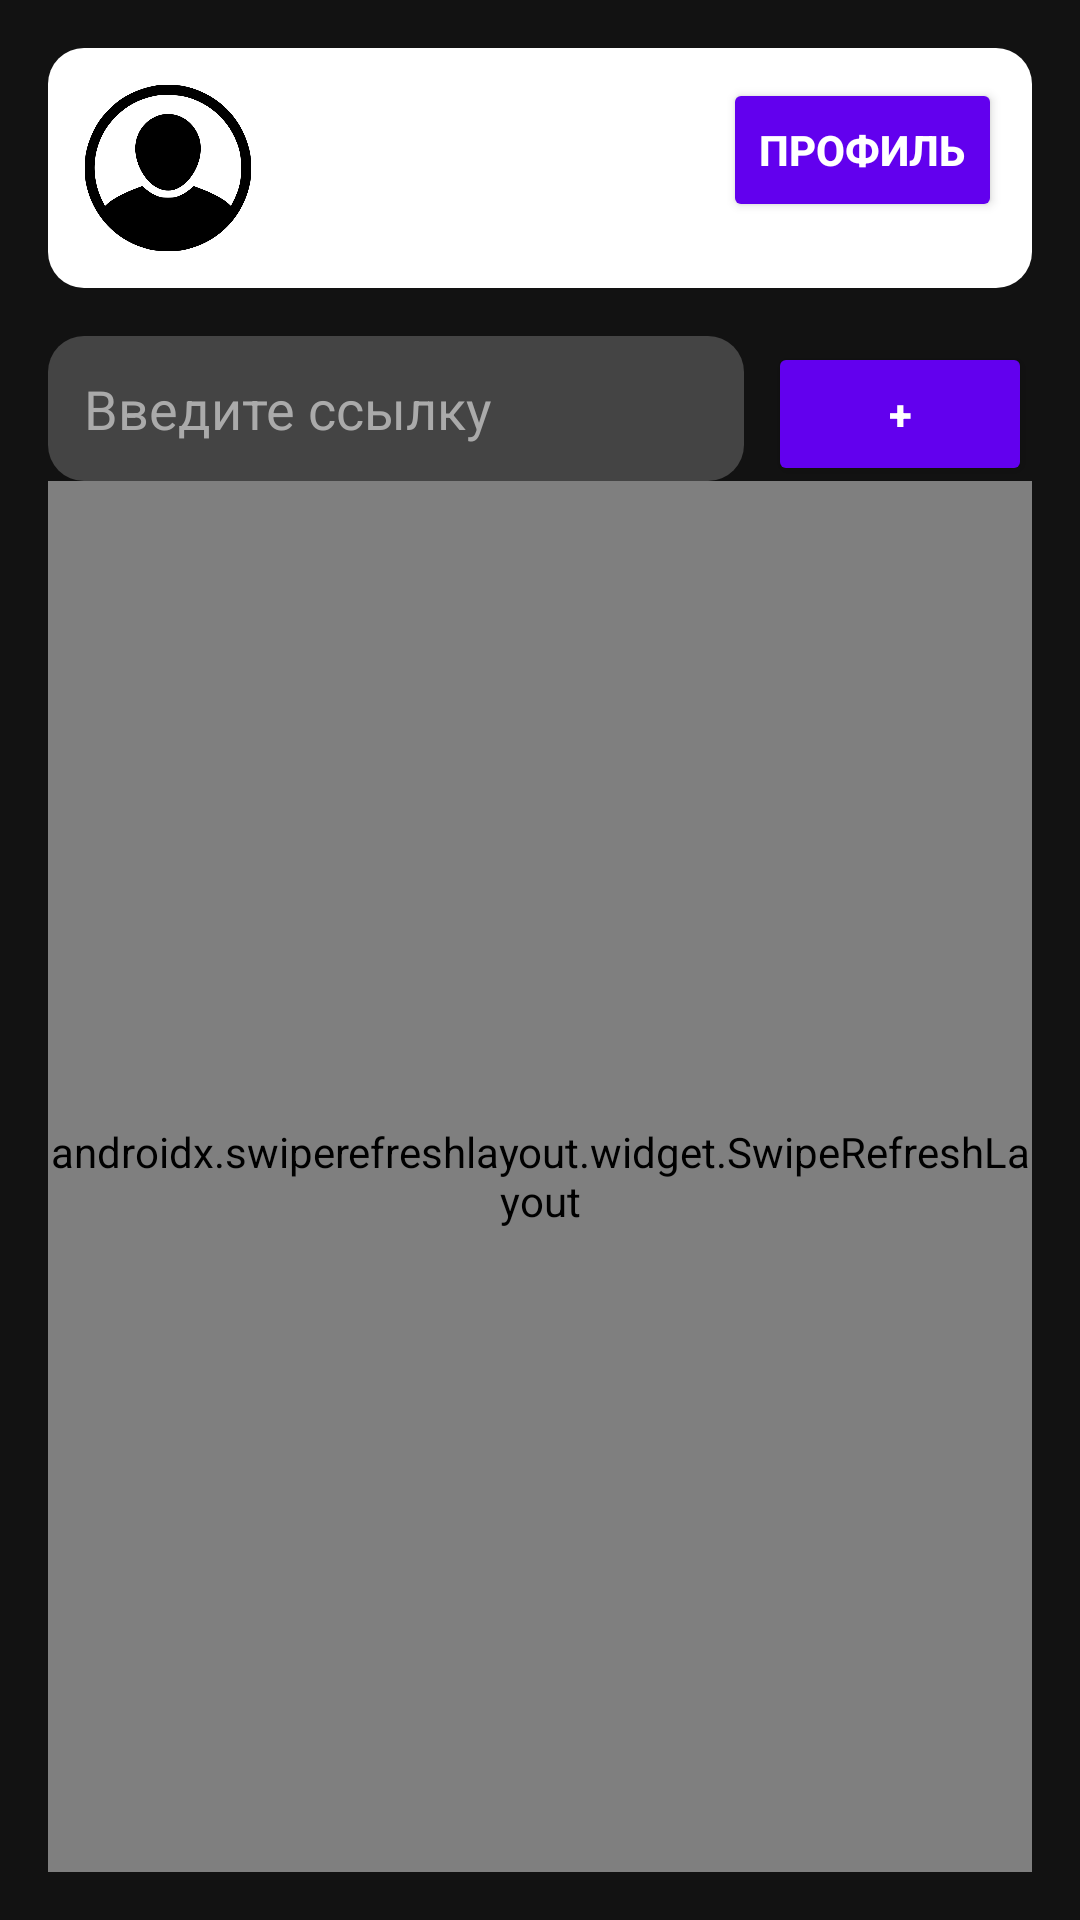

Where to tap for icons on this 1080w x 1920h app screen, as (x,y):
person: (168,168)
